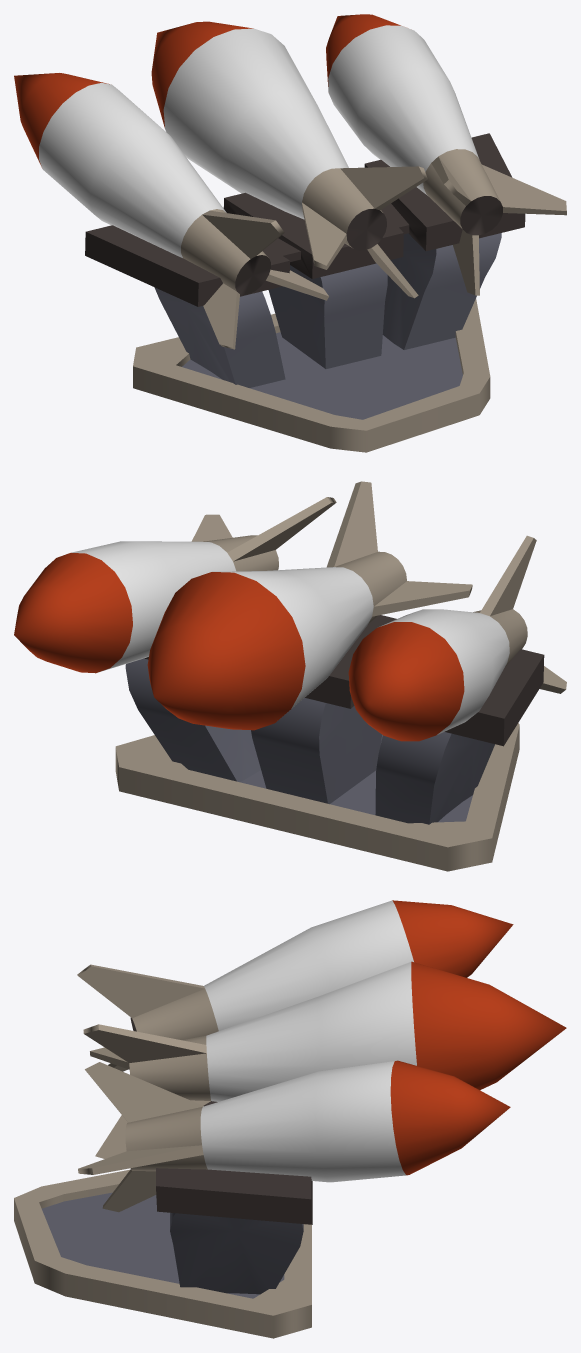
Rendered from SM_BoatGun_V3.fbx.
The picture shows the model from 3 angles, top to bottom: view 1: azimuth 30°, elevation 25°; view 2: azimuth 150°, elevation 25°; view 3: azimuth 270°, elevation 25°; orthographic projection. The views are drawn at different scales.
Parts seen in each view (by area): view 1: SM_BoatGun_V3, SM_BoatGunBase_V3; view 2: SM_BoatGun_V3, SM_BoatGunBase_V3; view 3: SM_BoatGun_V3, SM_BoatGunBase_V3.
Boxes of the visible parts, <box> form: SM_BoatGun_V3: <box>14,14,566,349</box>; SM_BoatGunBase_V3: <box>133,233,501,452</box>; SM_BoatGun_V3: <box>14,481,566,746</box>; SM_BoatGunBase_V3: <box>115,658,519,871</box>; SM_BoatGun_V3: <box>77,900,566,1224</box>; SM_BoatGunBase_V3: <box>14,1169,311,1338</box>.
Bounding box in the file's own units: 125 × 78.74 × 140.
